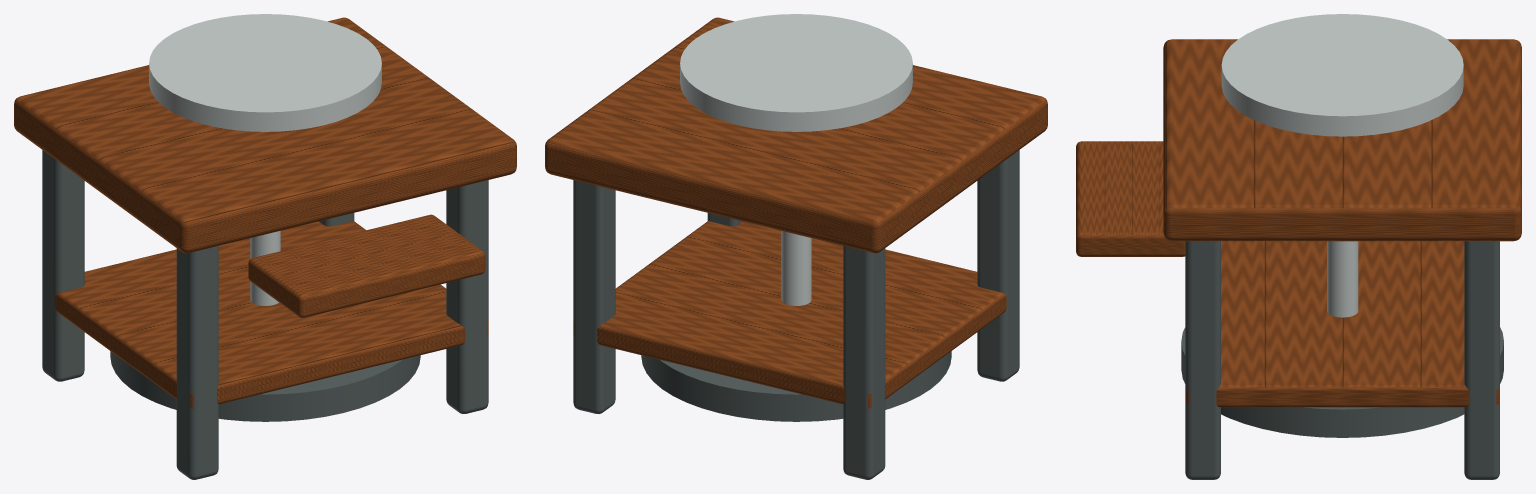
File: ceramics-pottery-studio-kick-wheel-06919384__29481.glb
3 views of the same model, side by side, from view 1: azimuth 30°, elevation 25°; view 2: azimuth 150°, elevation 25°; view 3: azimuth 270°, elevation 25° (orthographic). The views are drawn at different scales.
Parts seen in each view (by area): view 1: kick-wheel; view 2: kick-wheel; view 3: kick-wheel.
Part boxes in pixels (x1=…): kick-wheel: x1=14, y1=14, x2=516, y2=479; kick-wheel: x1=545, y1=14, x2=1047, y2=479; kick-wheel: x1=1076, y1=14, x2=1521, y2=479.
Bounding box in the file's own units: 0.9 × 0.84 × 0.995.
3 materials, 1 textured.
